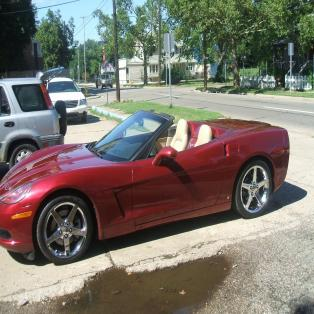Auto: (1, 106, 293, 268)
